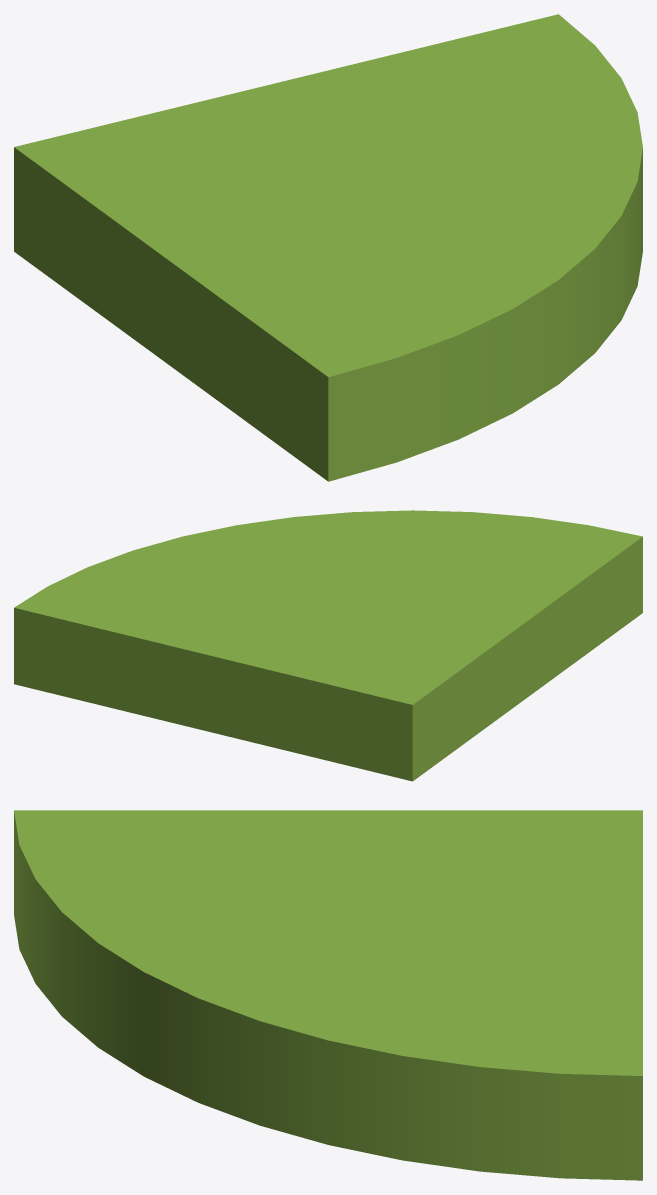
File: roadTile_029.obj
3 views of the same model, one above another, from view 1: azimuth 30°, elevation 25°; view 2: azimuth 150°, elevation 25°; view 3: azimuth 270°, elevation 25° (orthographic). The views are drawn at different scales.
Visible parts, largest first — view 1: roadTile_029; view 2: roadTile_029; view 3: roadTile_029.
Part boxes in pixels (box(x1,y1,x2,y2)): roadTile_029: box(14, 14, 642, 481); roadTile_029: box(14, 510, 642, 781); roadTile_029: box(14, 810, 642, 1180).
Bounding box in the file's own units: 3 × 0.55 × 3.
